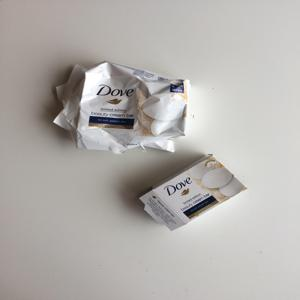cardboard: (55, 56, 199, 156), (143, 154, 250, 231)
